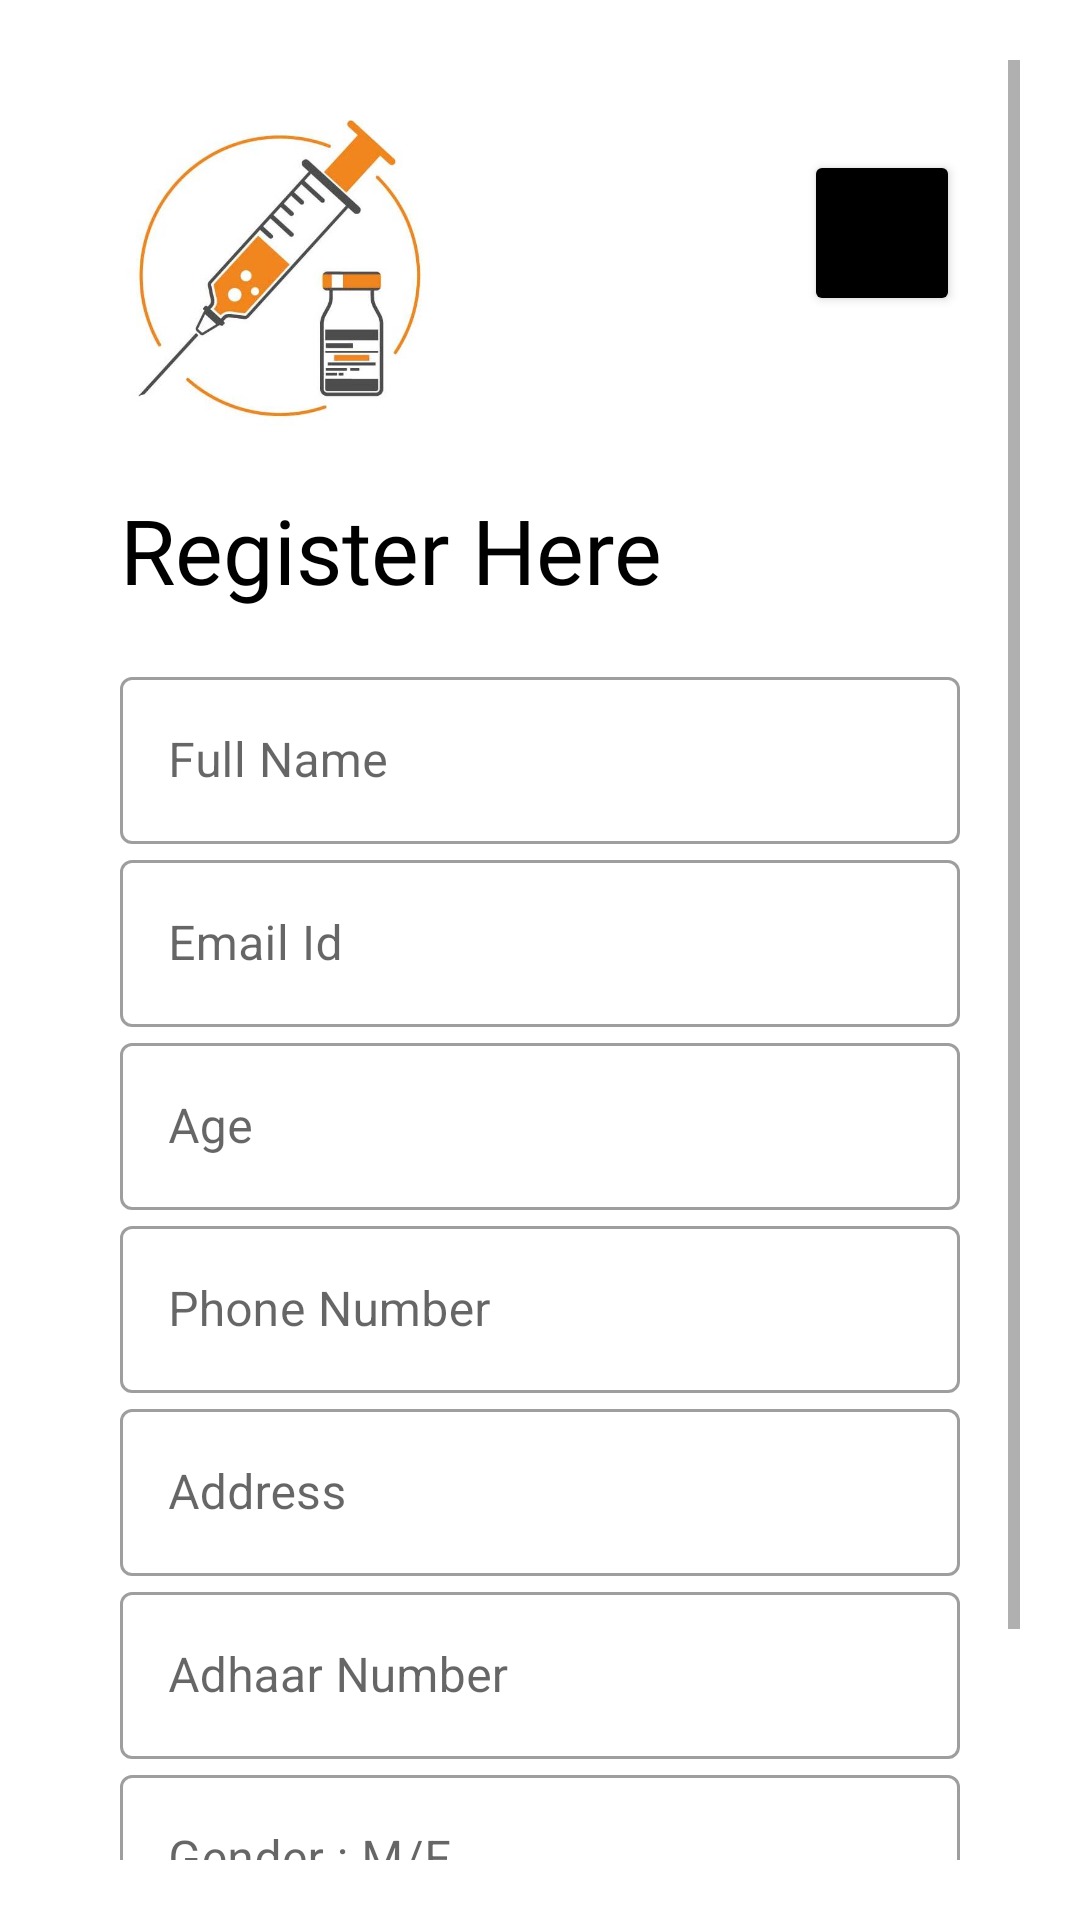

Locate icon controls on the screen. Image size 1080×1920, boxes as (x1, y1, x2, y2).
vacbacrop: (138, 120, 421, 417)
